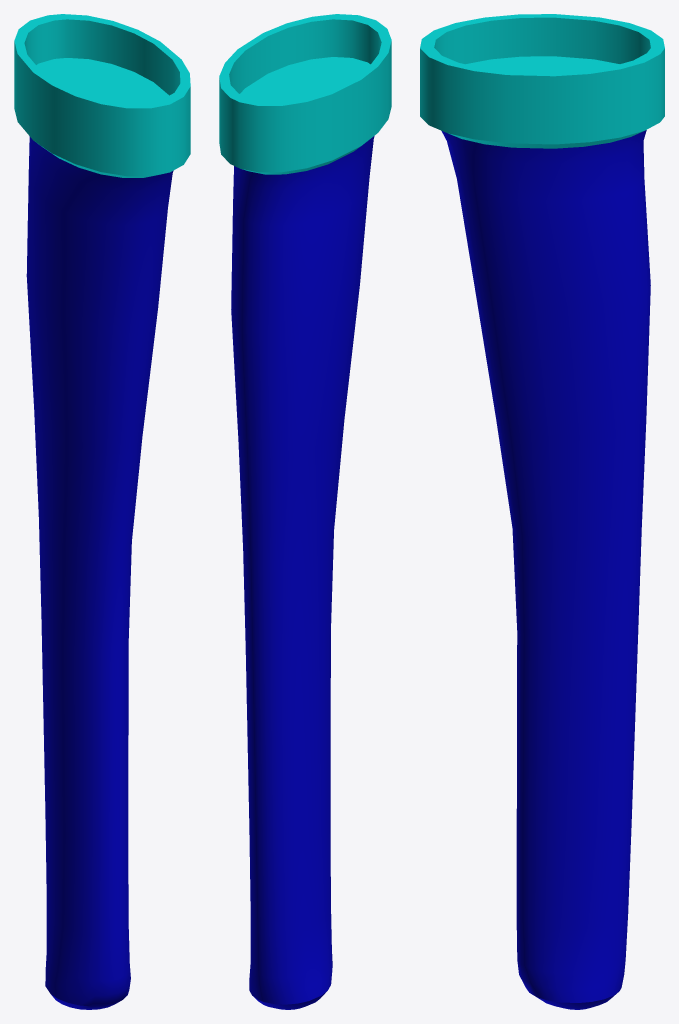
The model's file is Torch.fbx.
3 views of the same model, side by side, from view 1: azimuth 30°, elevation 25°; view 2: azimuth 150°, elevation 25°; view 3: azimuth 270°, elevation 25° (orthographic). The views are drawn at different scales.
Parts seen in each view (by area): view 1: Circle; view 2: Circle; view 3: Circle.
Part boxes in pixels (left/top/right/bottom): Circle: left=14, top=14, right=190, bottom=1009; Circle: left=219, top=14, right=391, bottom=1009; Circle: left=420, top=14, right=664, bottom=1009.
Size of the model in its own units: 21.47 by 154 by 35.7.
